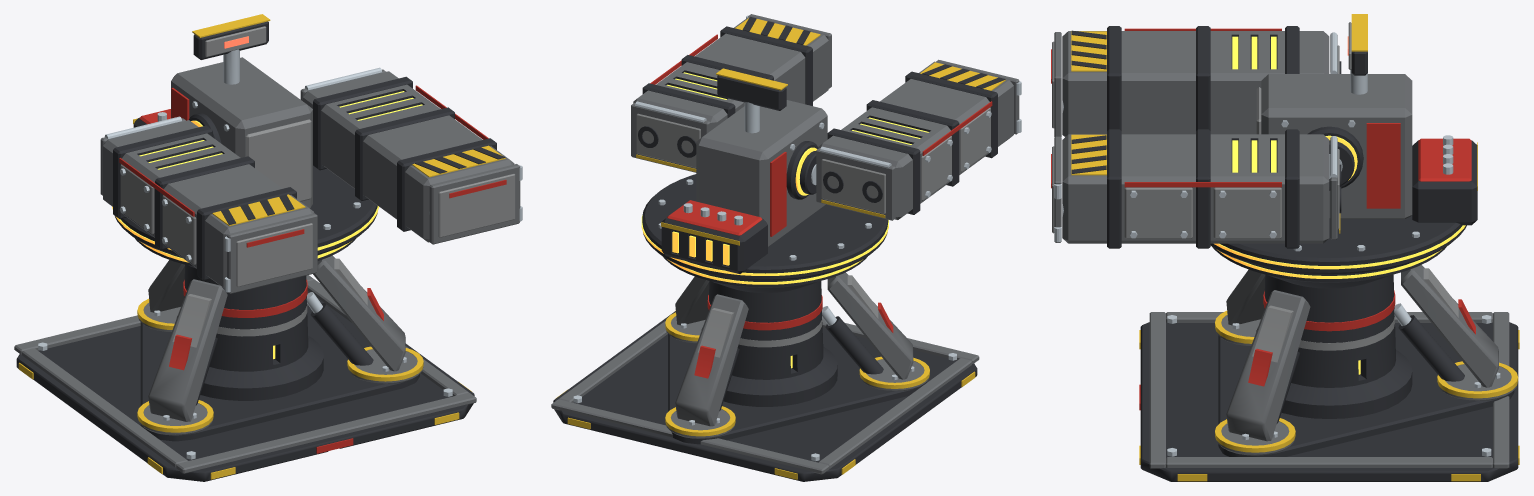
The model's file is R4W_RocketLauncher.glb.
3 renders of one model, left to right at view 1: azimuth 30°, elevation 25°; view 2: azimuth 150°, elevation 25°; view 3: azimuth 270°, elevation 25°, orthographic. The views are drawn at different scales.
Parts seen in each view (by area): view 1: R4W_RocketLauncher_Base, R4W_RocketLauncher_Pitch, R4W_RocketLauncher_Yaw, R4W_RocketLauncher_Hatch_R, R4W_RocketLauncher_Hatch_L, R4W_RocketLauncher_RearCover_L, R4W_RocketLauncher_RearCover_R; view 2: R4W_RocketLauncher_Base, R4W_RocketLauncher_Yaw, R4W_RocketLauncher_Pitch, R4W_RocketLauncher_RearCover_L, R4W_RocketLauncher_RearCover_R, R4W_RocketLauncher_Hatch_L, R4W_RocketLauncher_Hatch_R; view 3: R4W_RocketLauncher_Base, R4W_RocketLauncher_Pitch, R4W_RocketLauncher_Yaw, R4W_RocketLauncher_RearCover_R, R4W_RocketLauncher_Hatch_R, R4W_RocketLauncher_Hatch_L.
Part boxes in pixels (x1,y1,x2,y2): R4W_RocketLauncher_Base: [14, 238, 476, 481]; R4W_RocketLauncher_Pitch: [103, 71, 514, 288]; R4W_RocketLauncher_Yaw: [112, 14, 378, 256]; R4W_RocketLauncher_Hatch_R: [429, 164, 522, 244]; R4W_RocketLauncher_Hatch_L: [224, 213, 317, 293]; R4W_RocketLauncher_RearCover_L: [100, 116, 185, 195]; R4W_RocketLauncher_RearCover_R: [300, 67, 385, 100]; R4W_RocketLauncher_Base: [551, 256, 979, 481]; R4W_RocketLauncher_Yaw: [641, 68, 888, 280]; R4W_RocketLauncher_Pitch: [633, 16, 1013, 219]; R4W_RocketLauncher_RearCover_L: [816, 146, 895, 220]; R4W_RocketLauncher_RearCover_R: [631, 101, 710, 172]; R4W_RocketLauncher_Hatch_L: [936, 59, 1021, 134]; R4W_RocketLauncher_Hatch_R: [746, 14, 831, 88]; R4W_RocketLauncher_Base: [1139, 246, 1519, 481]; R4W_RocketLauncher_Pitch: [1062, 26, 1354, 248]; R4W_RocketLauncher_Yaw: [1210, 14, 1477, 274]; R4W_RocketLauncher_RearCover_R: [1330, 136, 1341, 239]; R4W_RocketLauncher_Hatch_R: [1051, 136, 1061, 242]; R4W_RocketLauncher_Hatch_L: [1051, 32, 1061, 136].
Size of the model in its own units: 0.5126 by 0.5515 by 0.6324.
